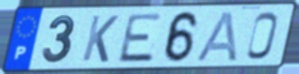0: (246, 11, 281, 61)
3: (41, 13, 77, 66)
6: (162, 9, 201, 65)
A: (194, 9, 239, 63)
E: (116, 12, 165, 65)
K: (80, 13, 121, 64)
